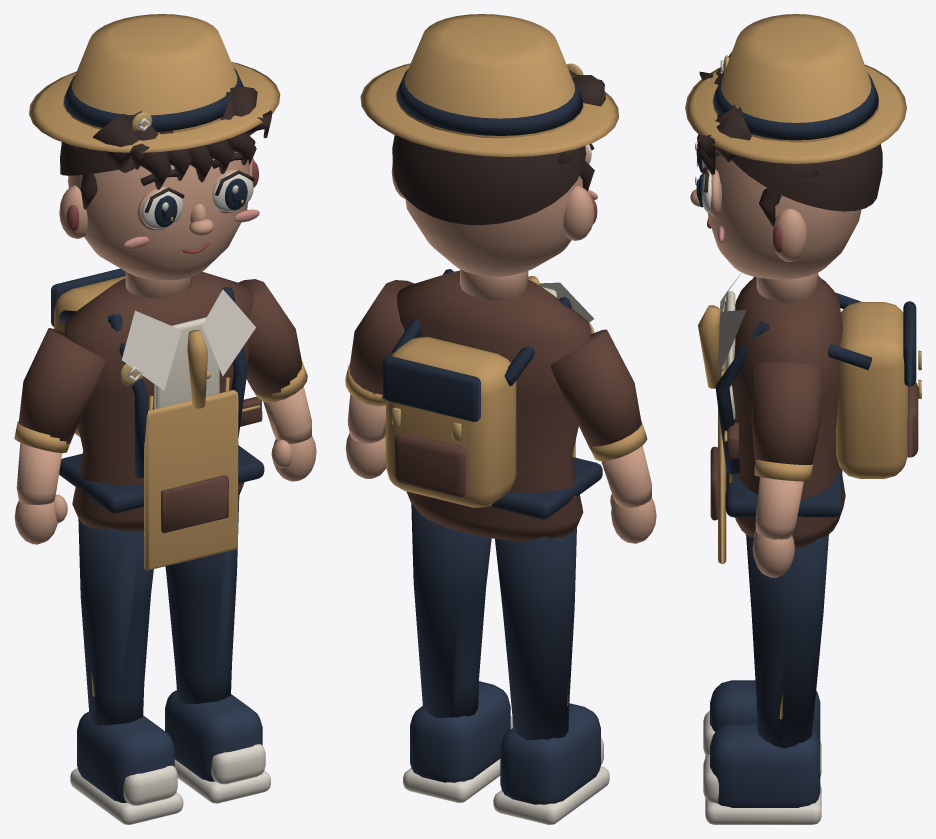
The model's file is xingyin-characters-v1__trainer_merchant.glb.
3 views of the same model, side by side, from view 1: azimuth 30°, elevation 25°; view 2: azimuth 150°, elevation 25°; view 3: azimuth 270°, elevation 25° (orthographic). The views are drawn at different scales.
Visible parts, largest first — view 1: figure.007; view 2: figure.007; view 3: figure.007.
Part boxes in pixels (x1=…): figure.007: x1=14, y1=14, x2=316, y2=824; figure.007: x1=345, y1=14, x2=656, y2=824; figure.007: x1=685, y1=14, x2=921, y2=824.
Bounding box in the file's own units: 1.05 × 2.5 × 0.7126.
